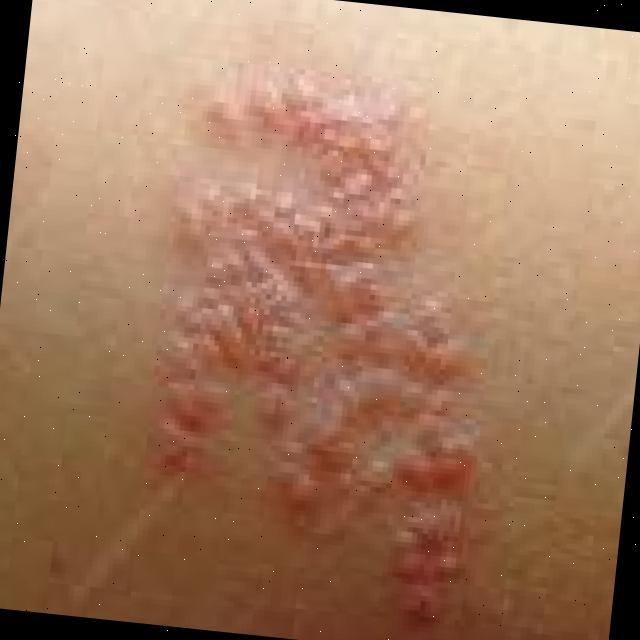Shingles: (157, 71, 478, 615)
